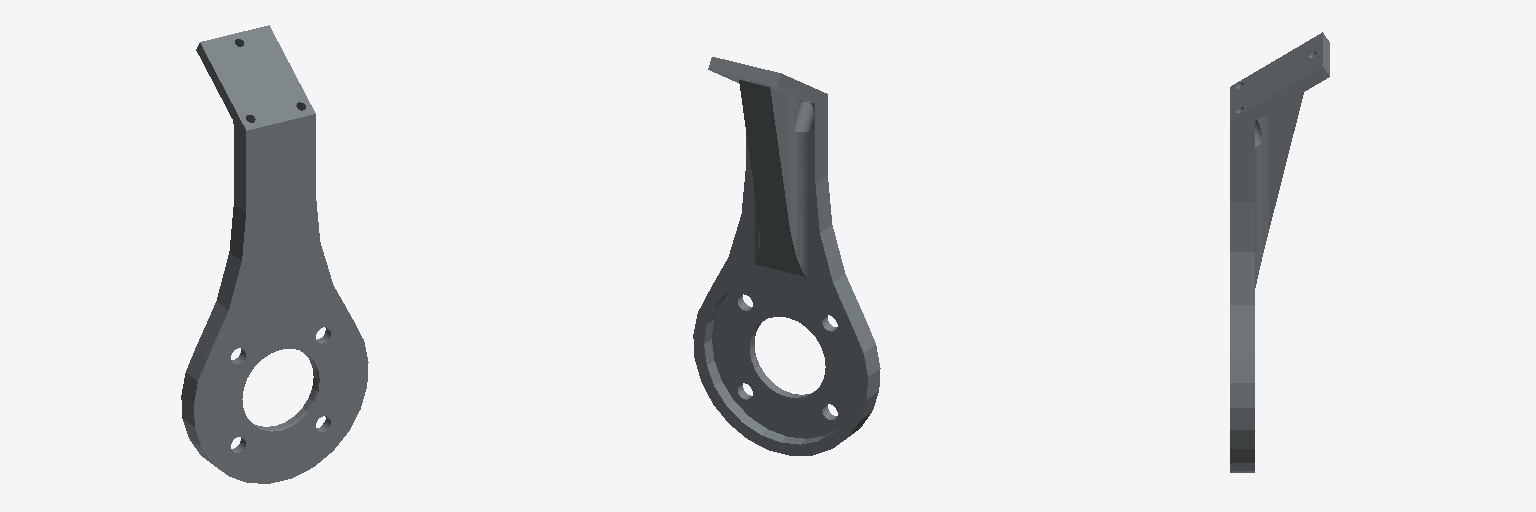
File: gripper_wr_FL_ISO50_CRG200_Grundkorper_CUSTOMER_KamerahalterungNeu_KamerahalterungNeu.obj
The picture shows the model from 3 angles: view 1: azimuth 30°, elevation 25°; view 2: azimuth 150°, elevation 25°; view 3: azimuth 270°, elevation 25°; orthographic projection.
Size of the model in its own units: 0.0728 by 0.1646 by 0.0363.